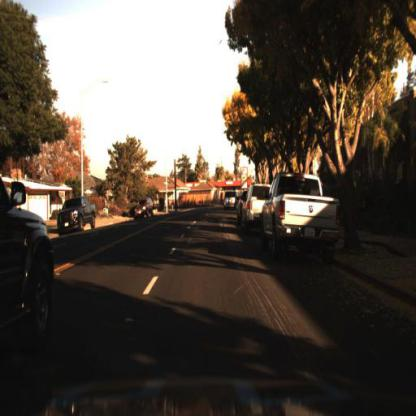car: (1, 170, 61, 369), (256, 169, 342, 263), (242, 182, 278, 235), (59, 197, 97, 233), (132, 195, 155, 222), (135, 194, 156, 220), (222, 189, 240, 213)
